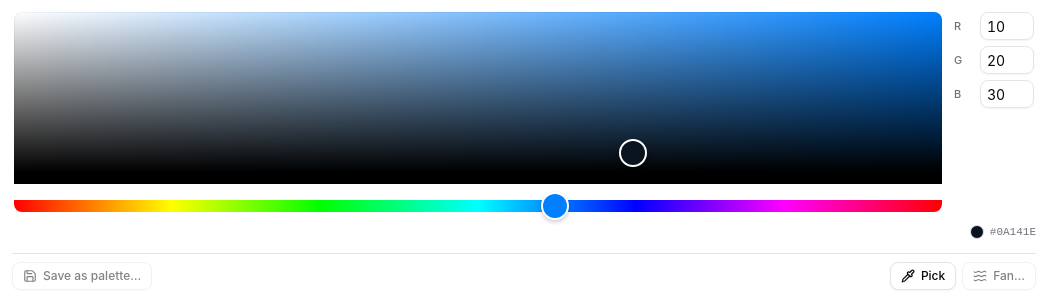
Pick › reads in the host’s head order, and a cell off its parent’s segment
This screenshot has width=1048, height=307.
Click the button "Pick": (923, 276) [890, 262, 956, 290]
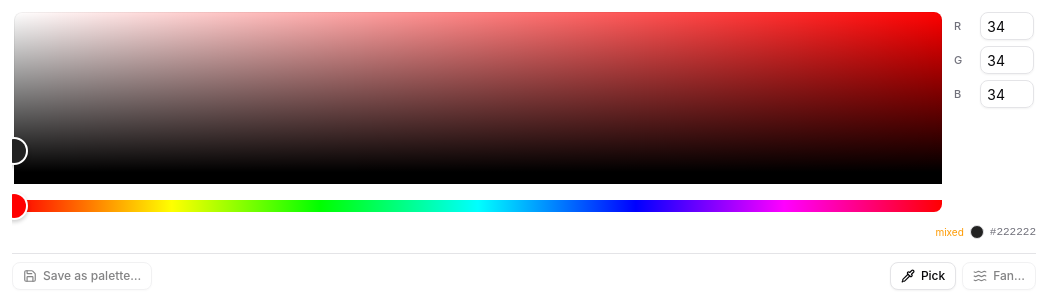
Check: the number field labelled "R" holds "34", box [980, 12, 1034, 40]
Check: the text "mixed" is shown, box [935, 225, 964, 240]
